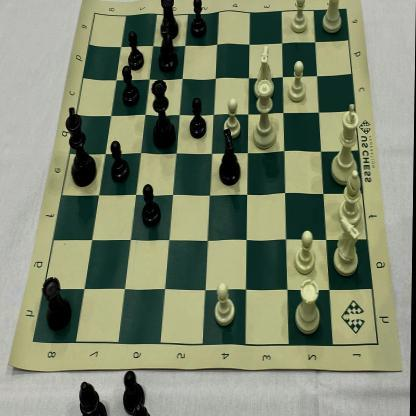black-king: (63, 104, 98, 190)
black-knight: (217, 128, 248, 188), (157, 17, 179, 75)
black-pawn: (109, 136, 132, 184), (187, 95, 210, 141), (142, 182, 164, 228), (120, 63, 141, 109), (127, 28, 146, 72), (189, 0, 210, 38)
black-queen: (149, 77, 180, 151)
black-rook: (41, 274, 74, 333), (158, 0, 182, 44)
white-bishop: (337, 168, 370, 227)
white-king: (331, 102, 366, 186)
white-knight: (331, 218, 365, 280), (250, 43, 277, 101)
white-pawn: (214, 278, 241, 329), (293, 226, 319, 278), (287, 57, 309, 104), (222, 94, 244, 139), (290, 0, 310, 35)
white-queen: (250, 79, 281, 152)
white-rook: (294, 279, 324, 337), (319, 0, 346, 37)
